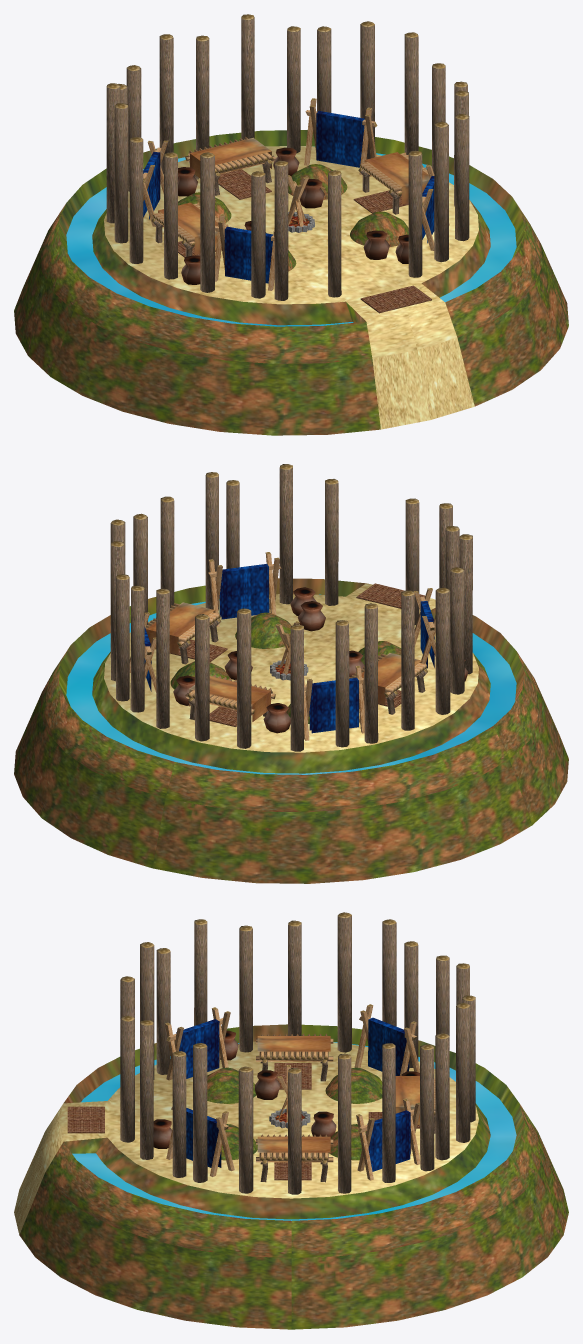
The model's file is temple_b.dae.
3 renders of one model, top to bottom at view 1: azimuth 30°, elevation 25°; view 2: azimuth 150°, elevation 25°; view 3: azimuth 270°, elevation 25°, orthographic.
Visible parts, largest first — view 1: temple_b; view 2: temple_b; view 3: temple_b.
Part boxes in pixels (<box>): temple_b: <box>14,14,568,435</box>; temple_b: <box>14,464,568,883</box>; temple_b: <box>14,912,568,1329</box>.
Size of the model in its own units: 27.49 by 27.49 by 12.42.
